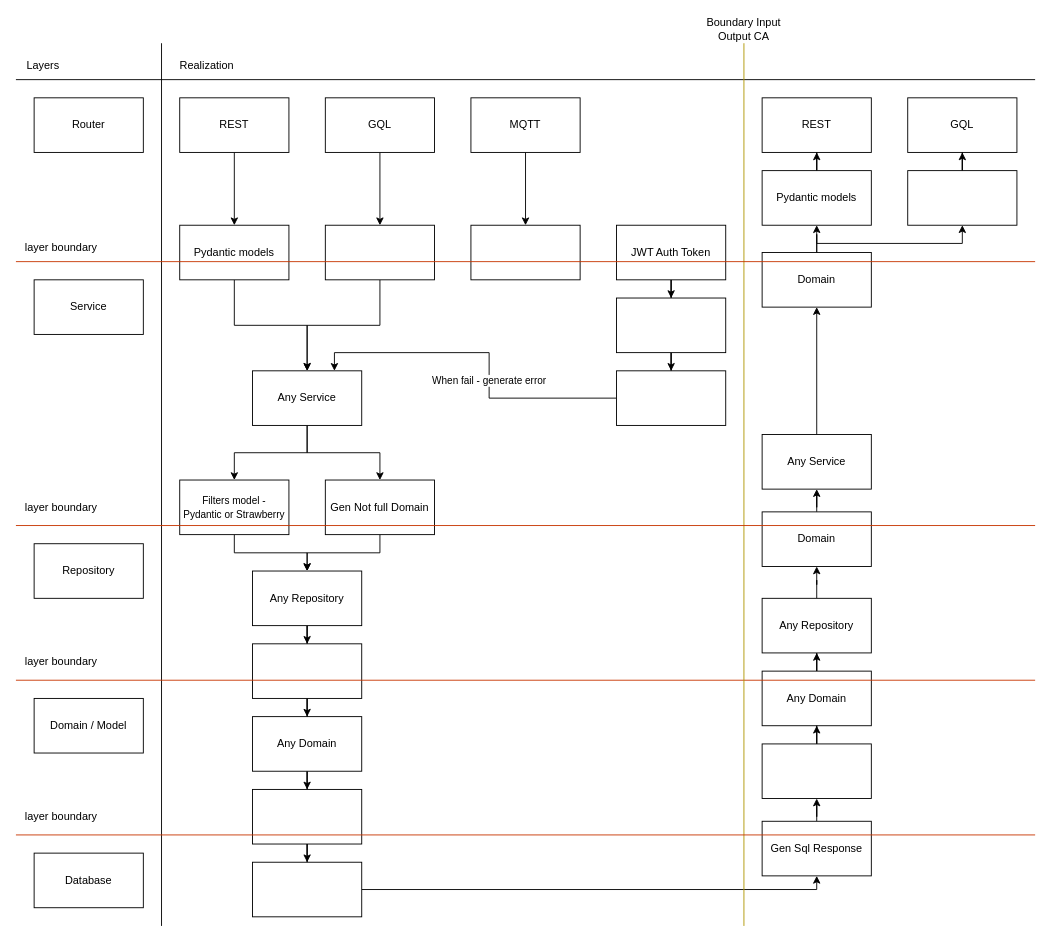
Some shapes in this 1052 by 943 pixel diagram are drawn without their labels. Here are the shapes that lost their labels. From the top down, the box of each, then its label:
(907, 170, 1017, 225): Strawberry response
(324, 224, 435, 280): Strawberry input
(470, 224, 580, 280): Topics + JSON
(616, 297, 726, 353): Auth
(616, 370, 726, 425): Check access
(252, 643, 362, 698): Sqlalchemy Queries
(761, 743, 871, 799): Sqlalchemy serialize response to Domain
(252, 789, 362, 844): Sqlalchemy gen sql query
(252, 861, 362, 917): Any Database
